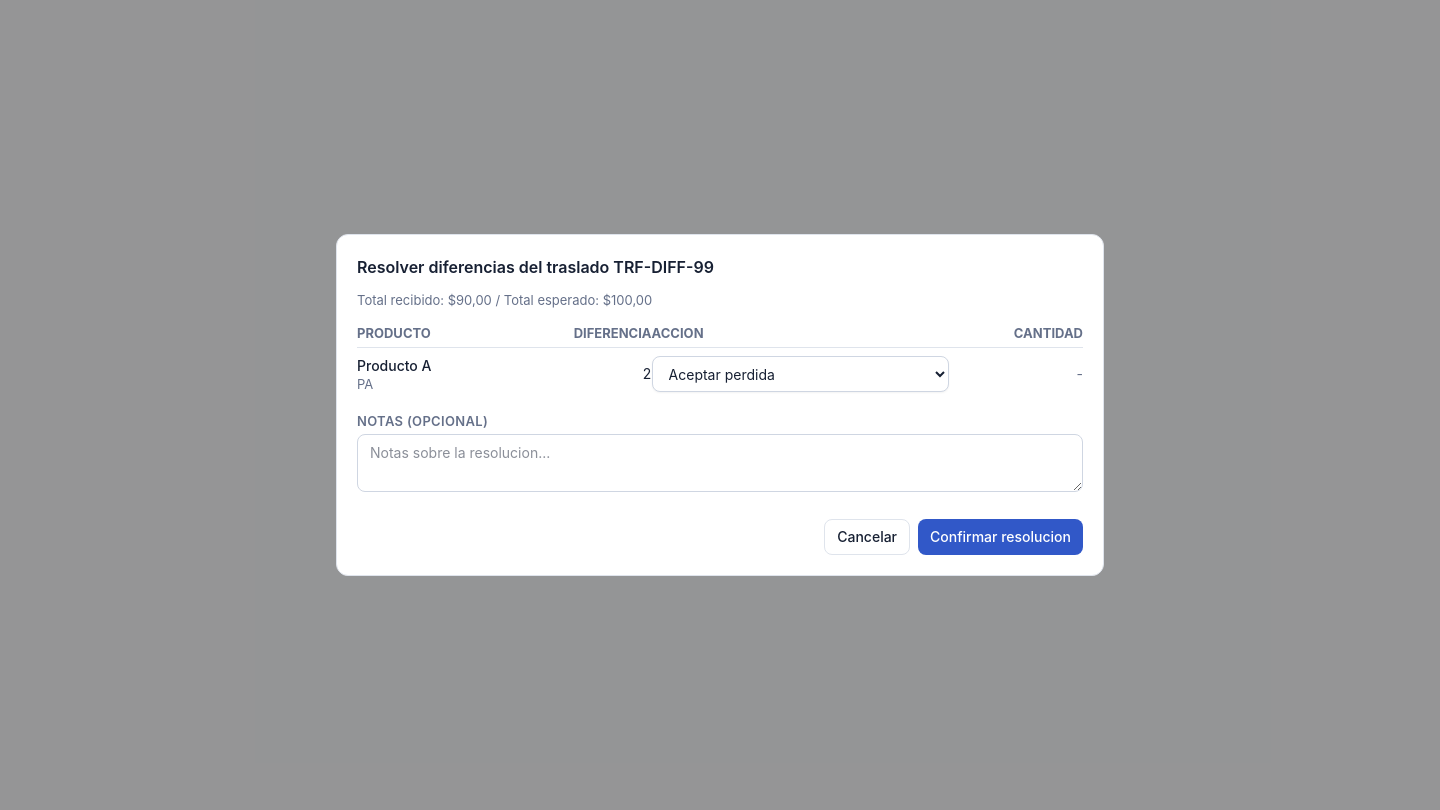
TransferResolveDifferencesDialog › muestra input de cantidad solo cuando la accion es adjusted_manually
// Cambiar la accion del unico item con diff a adjusted_manually.
Select "Ajuste manual" in the dropdown: (800, 374) [652,356,949,392]
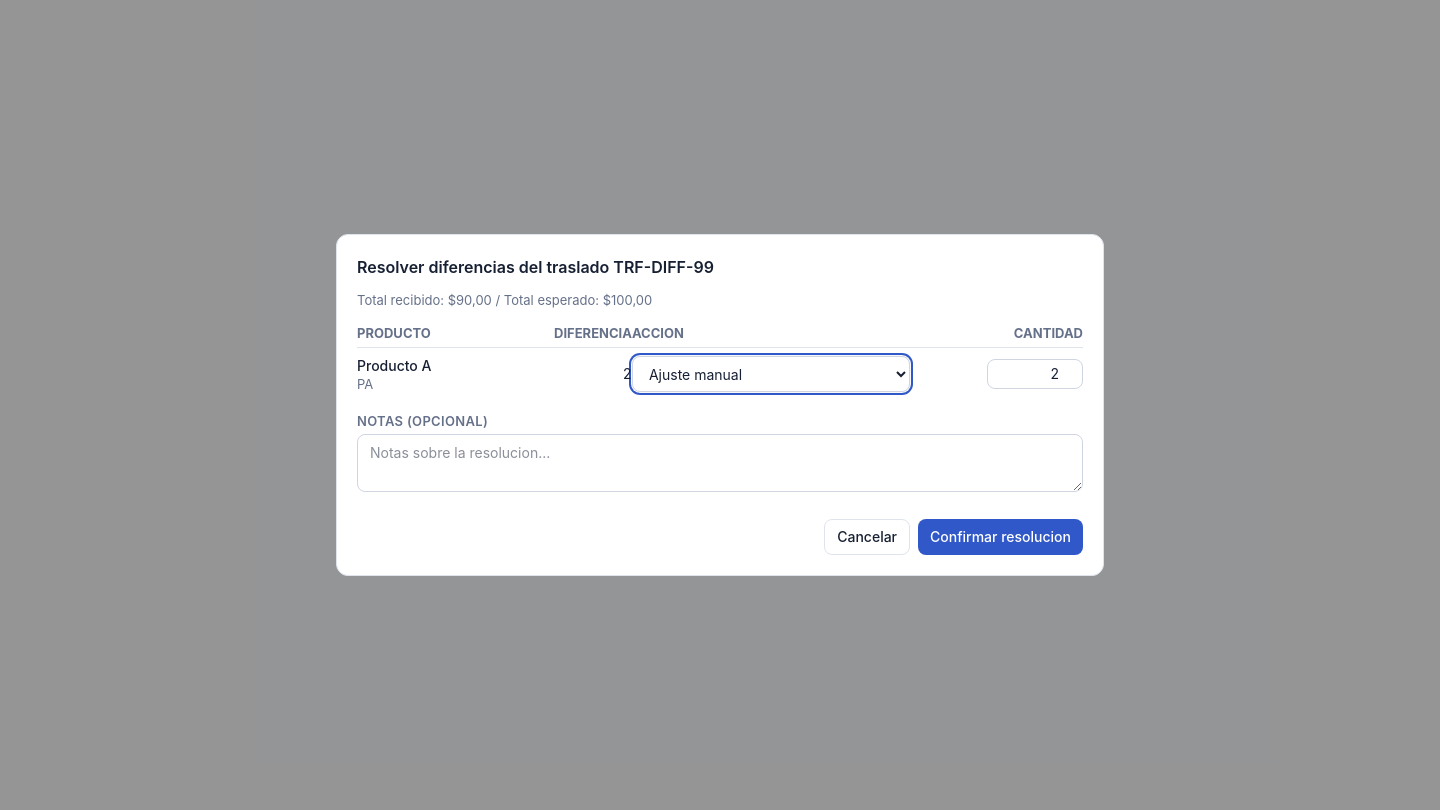
Expected: the number field holds "2", [987,359,1083,389]
